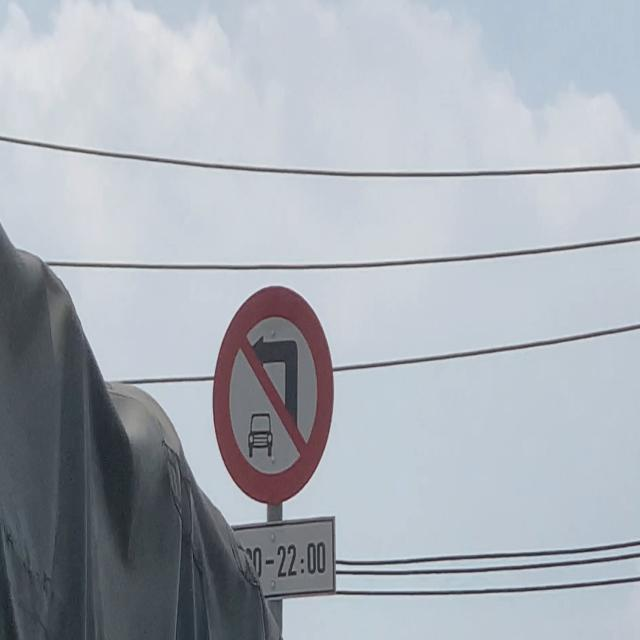Cam re trai: (212, 286, 335, 507)
